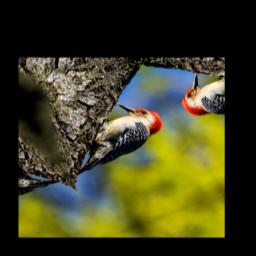Woodpecker: (48, 91, 174, 174)
